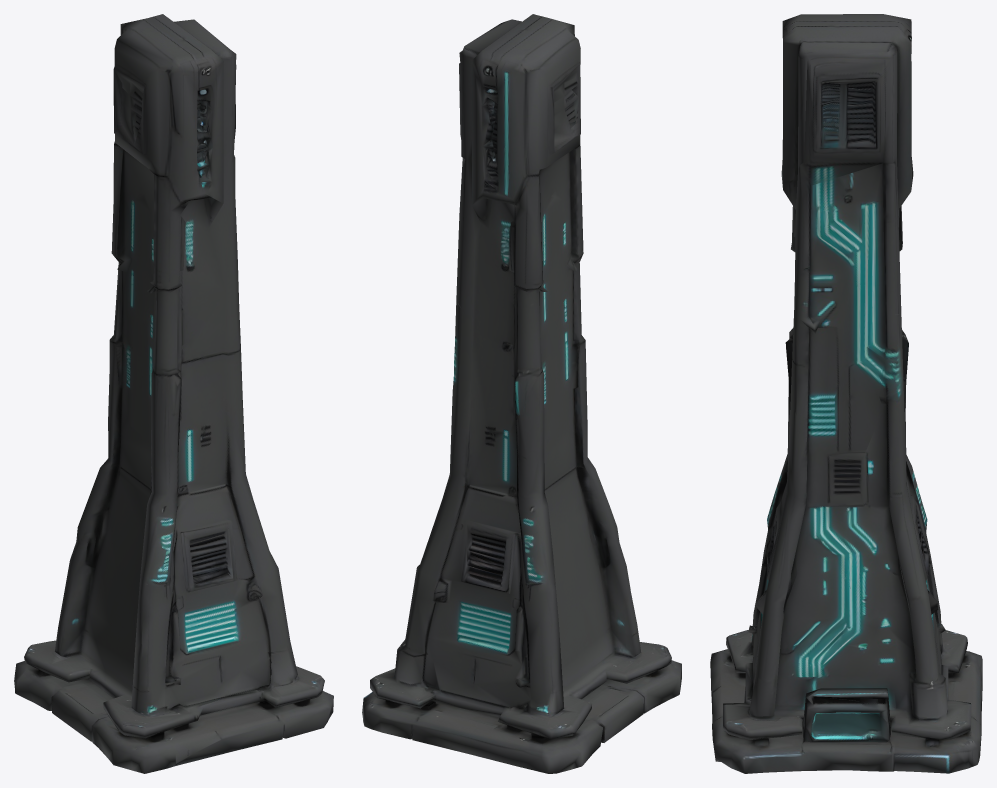
File: 033e8218-b20e-41b8-91c1-86730f5108ae-pbr-model.glb
3 views of the same model, side by side, from view 1: azimuth 30°, elevation 25°; view 2: azimuth 150°, elevation 25°; view 3: azimuth 270°, elevation 25° (orthographic). The views are drawn at different scales.
Visible parts, largest first — view 1: tripo_node_033e8218-b20e-41b8-91c1-86730f5108ae; view 2: tripo_node_033e8218-b20e-41b8-91c1-86730f5108ae; view 3: tripo_node_033e8218-b20e-41b8-91c1-86730f5108ae.
Part boxes in pixels (<box>): tripo_node_033e8218-b20e-41b8-91c1-86730f5108ae: <box>14,14,333,773</box>; tripo_node_033e8218-b20e-41b8-91c1-86730f5108ae: <box>362,14,681,773</box>; tripo_node_033e8218-b20e-41b8-91c1-86730f5108ae: <box>710,14,982,773</box>.
Bounding box in the file's own units: 0.3447 × 1 × 0.3558.
1 material, 1 textured.
